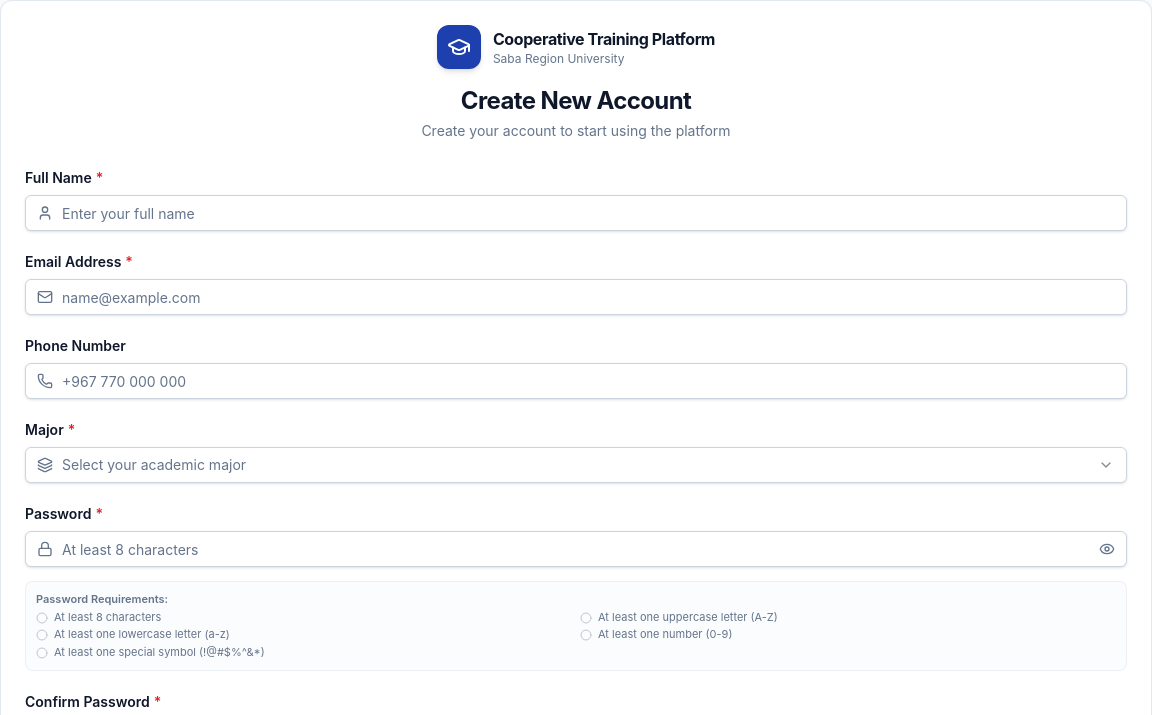
Test: RegisterForm Component › displays server error banner if registration throws an error
This screenshot has width=1152, height=715.
Note: Fill minimum required fields
Type "Ahmed Ali" into the field labelled "Full Name*".
click(576, 213); type("Ahmed Ali")  # box [25,195,1127,231]
Type "ahmed@example.com" into the field labelled "Email Address*".
click(576, 297); type("ahmed@example.com")  # box [25,279,1127,315]
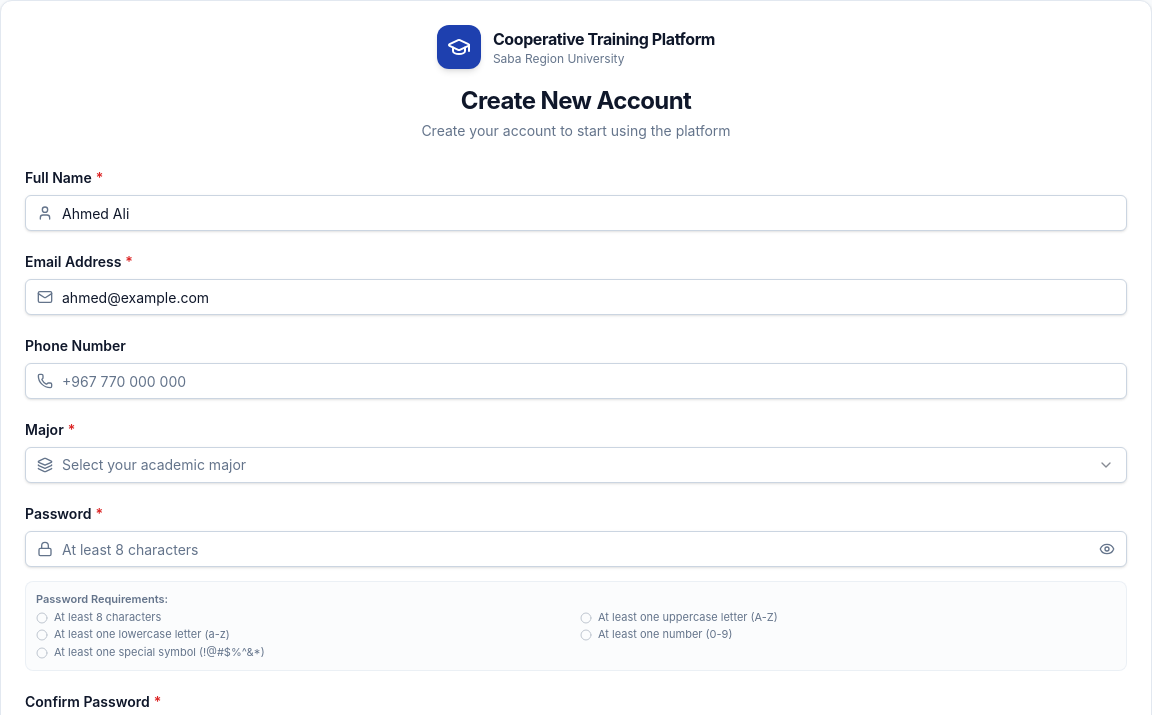
Type "Secret123!" into the password field labelled "Password*".
click(576, 549); type("Secret123!")  # box [25,531,1127,567]
(page scrolled)
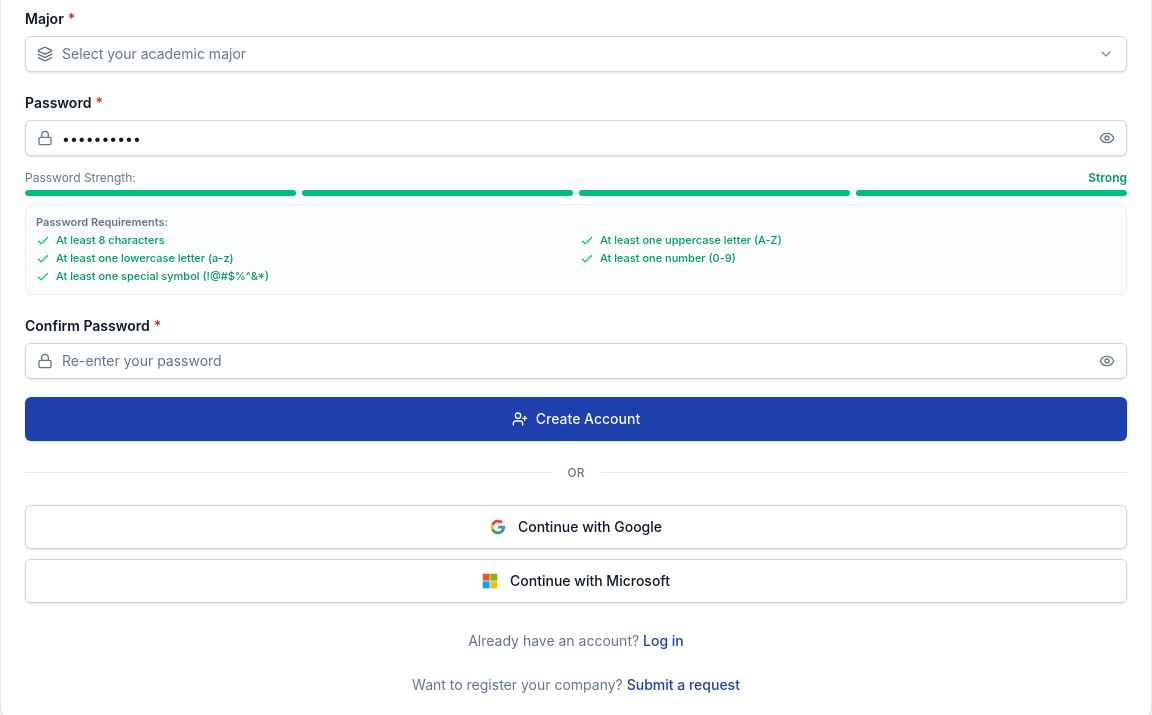
Type "Secret123!" into the password field labelled "Confirm Password*".
click(576, 361); type("Secret123!")  # box [25,343,1127,379]
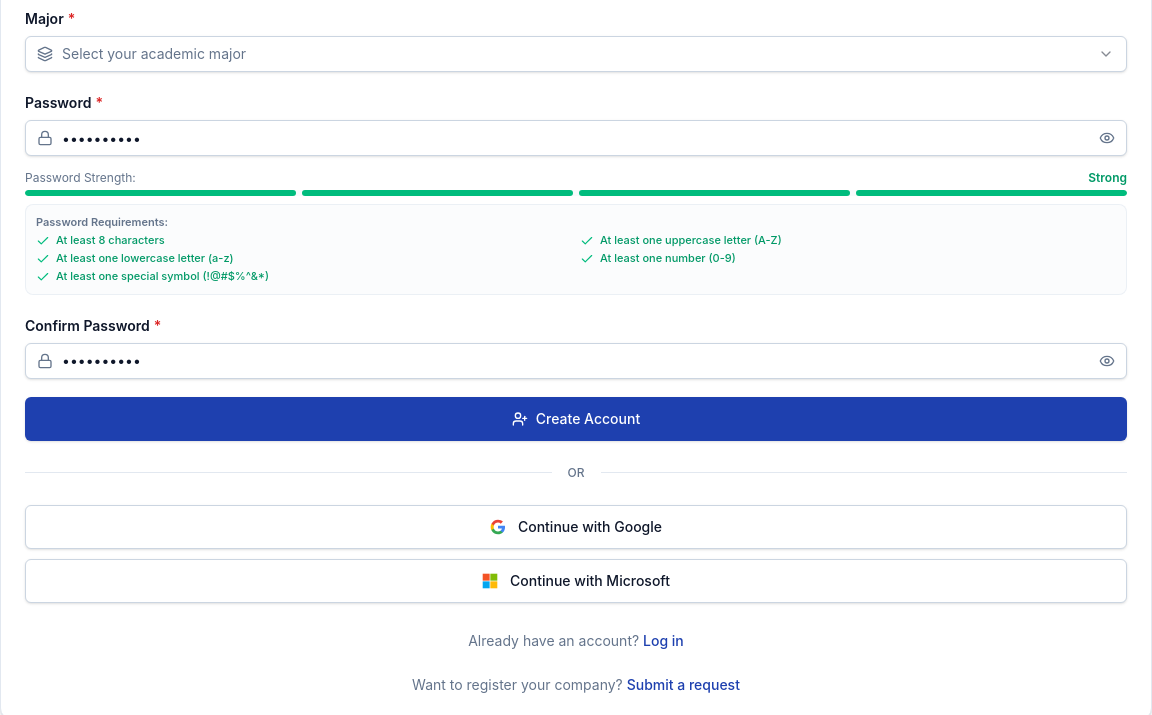
Click the button labelled "Select your academic major".
click(154, 54)  # box [25,36,1127,72]
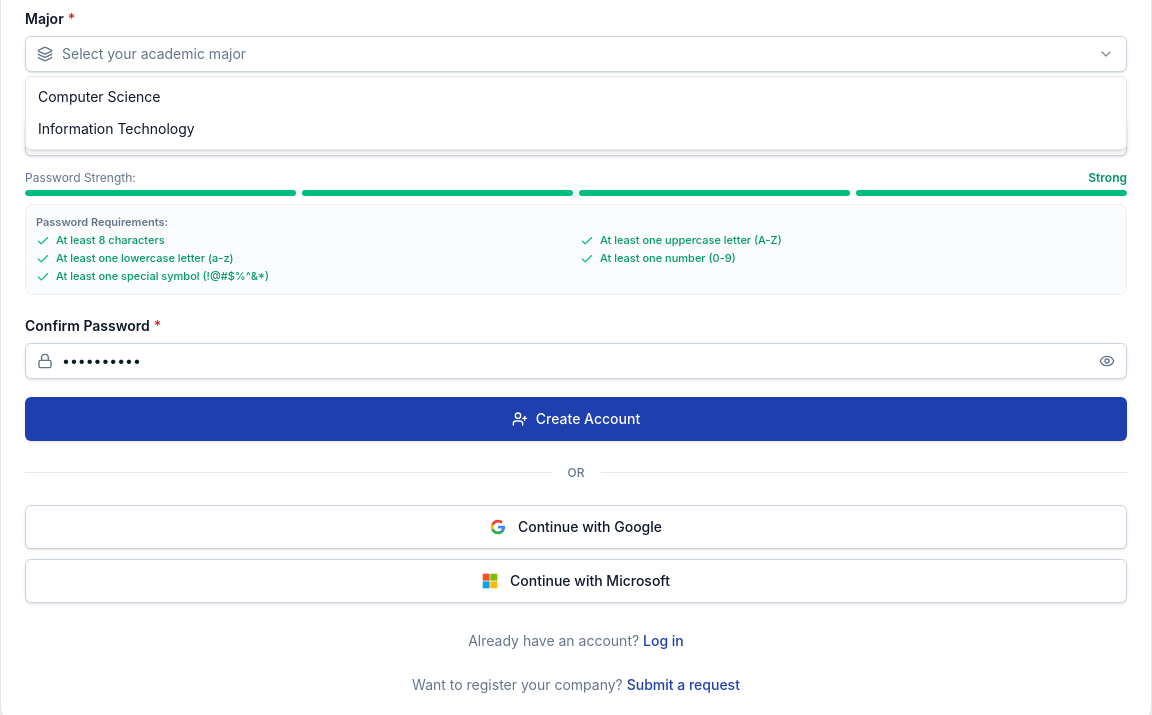
Click the option "Computer Science".
click(99, 96)  # box [38,88,160,105]
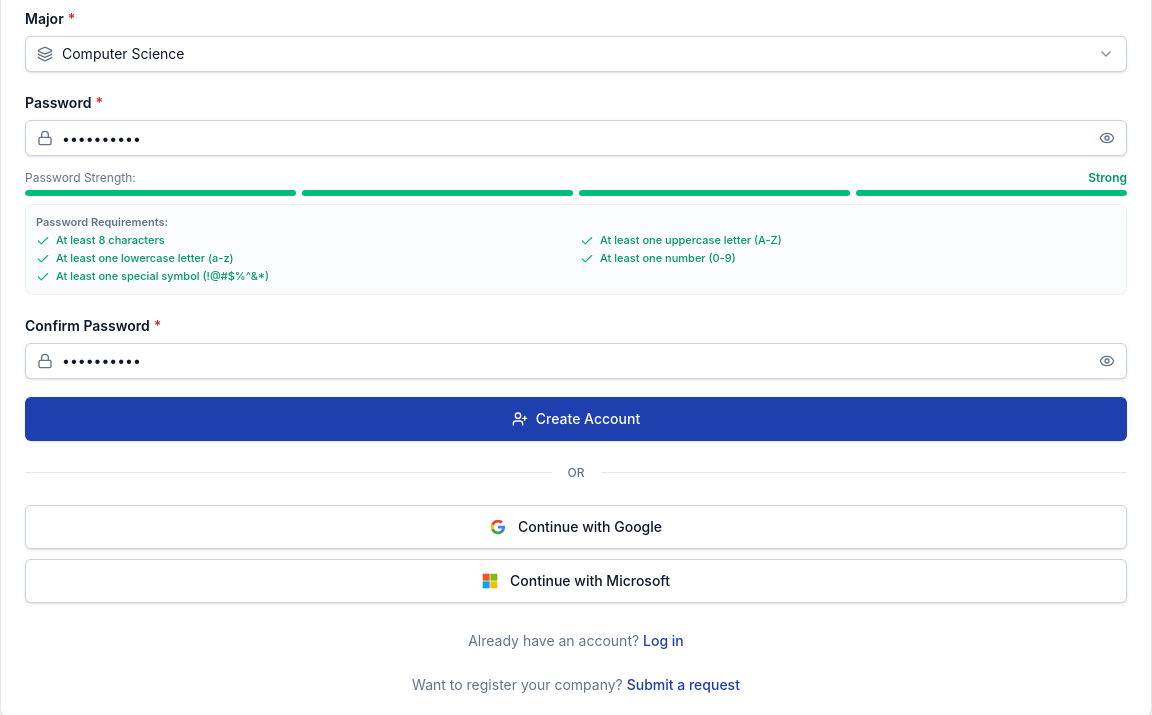
Click the button "Create Account".
click(576, 419)  # box [25,397,1127,441]
(page scrolled)
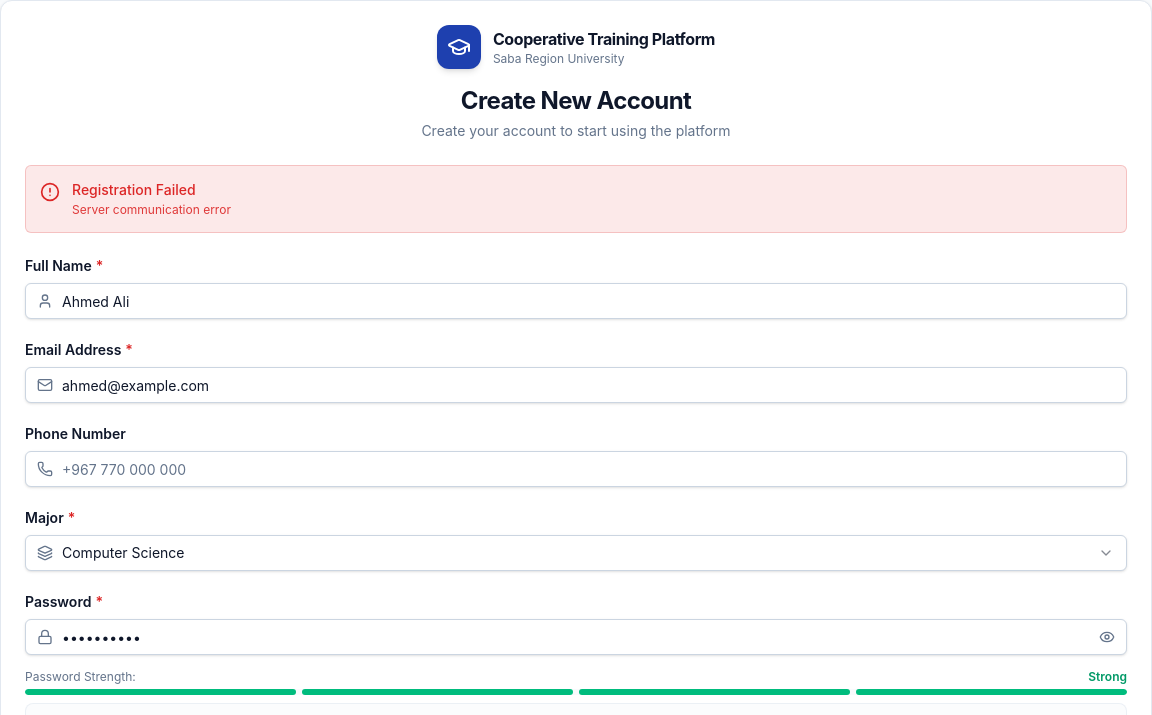
Expected: the text "Server communication error" is shown, [72,202,231,217]
